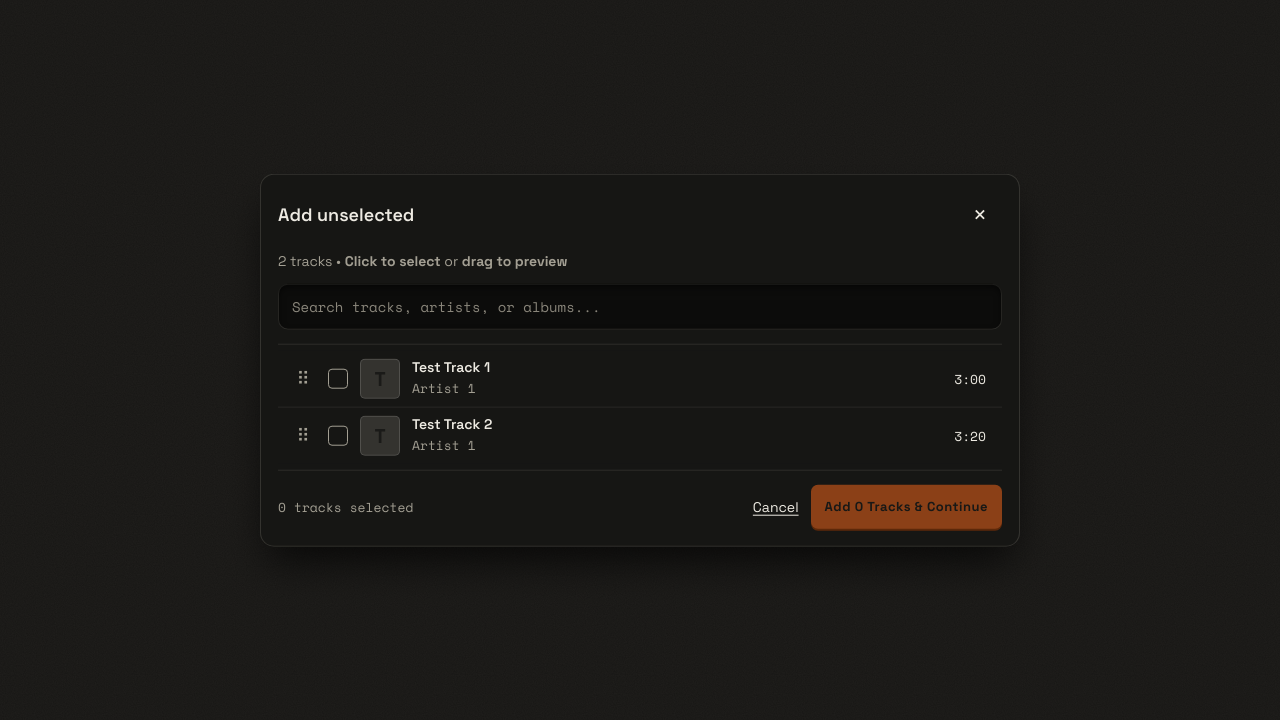
Test: AddUnselectedModal › filters tracks based on search query
expect the element with test id "track-list" is shown: met, box [278,344,1002,469]
Type "Test Track 1" into the field with placeholder "Search tracks, artists, or albums..." at (640, 306), box [278,283,1002,329]
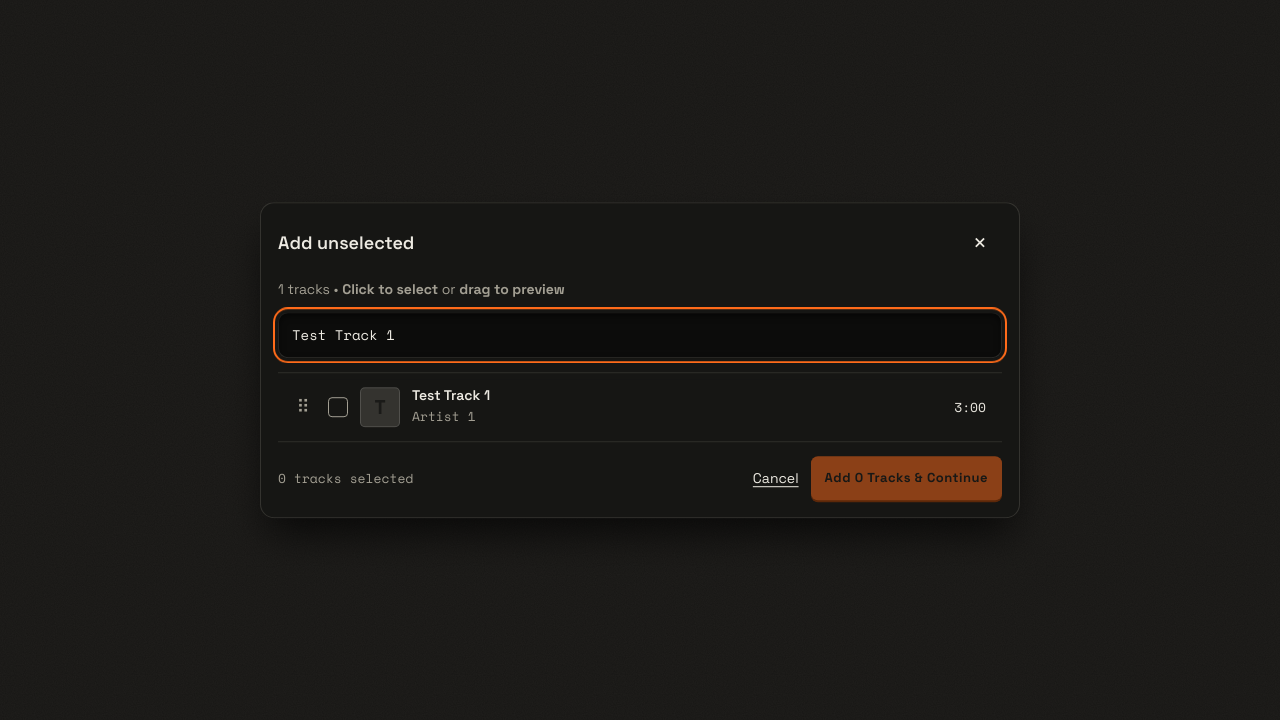
expect the list item with test id "track-item-track1" is shown: met, box [320,379,1002,435]
expect the list item with test id "track-item-track2" is gone: met
